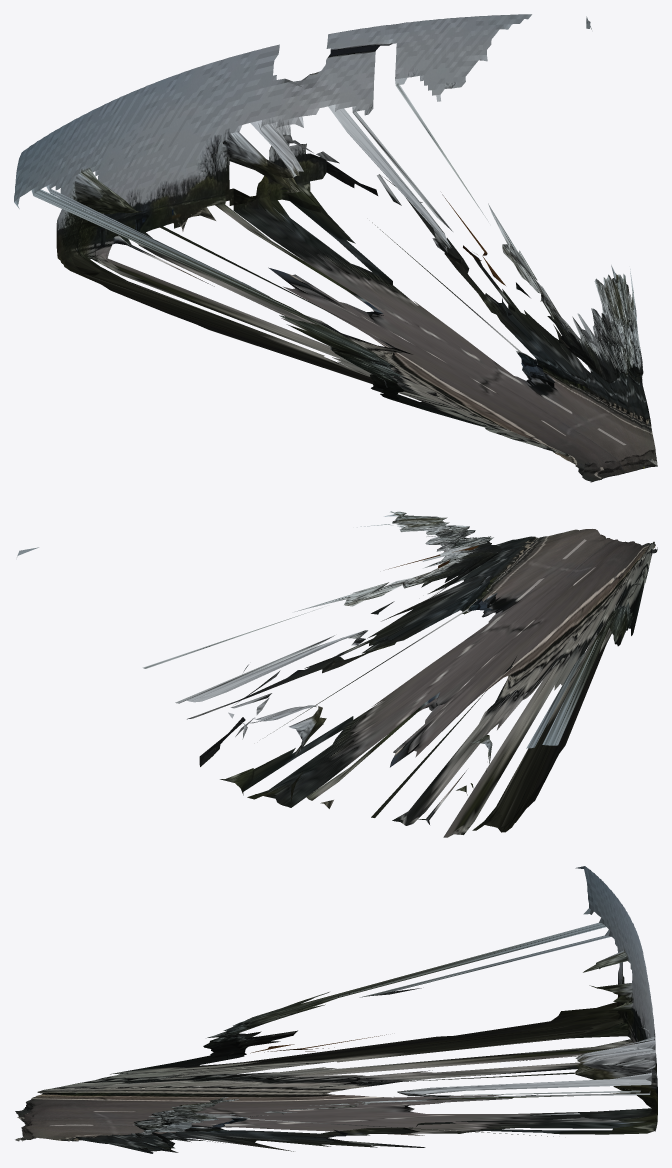
3 views of the same model, one above another, from view 1: azimuth 30°, elevation 25°; view 2: azimuth 150°, elevation 25°; view 3: azimuth 270°, elevation 25° (orthographic). The views are drawn at different scales.
Visible parts, largest first — view 1: defaultobject; view 2: defaultobject; view 3: defaultobject.
Boxes of the visible parts, box(x1,y1,x2,y2) form: defaultobject: box(14, 14, 657, 482); defaultobject: box(17, 511, 657, 837); defaultobject: box(15, 866, 657, 1153).
Size of the model in its own units: 40.73 by 11.7 by 44.64.
Materials: 1 (1 with a texture image).
